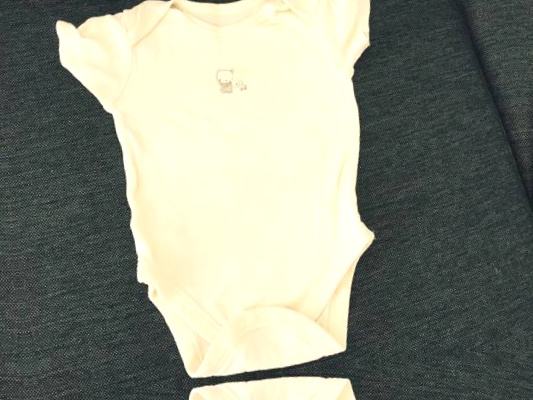Body: (51, 0, 436, 391), (99, 358, 484, 400)
